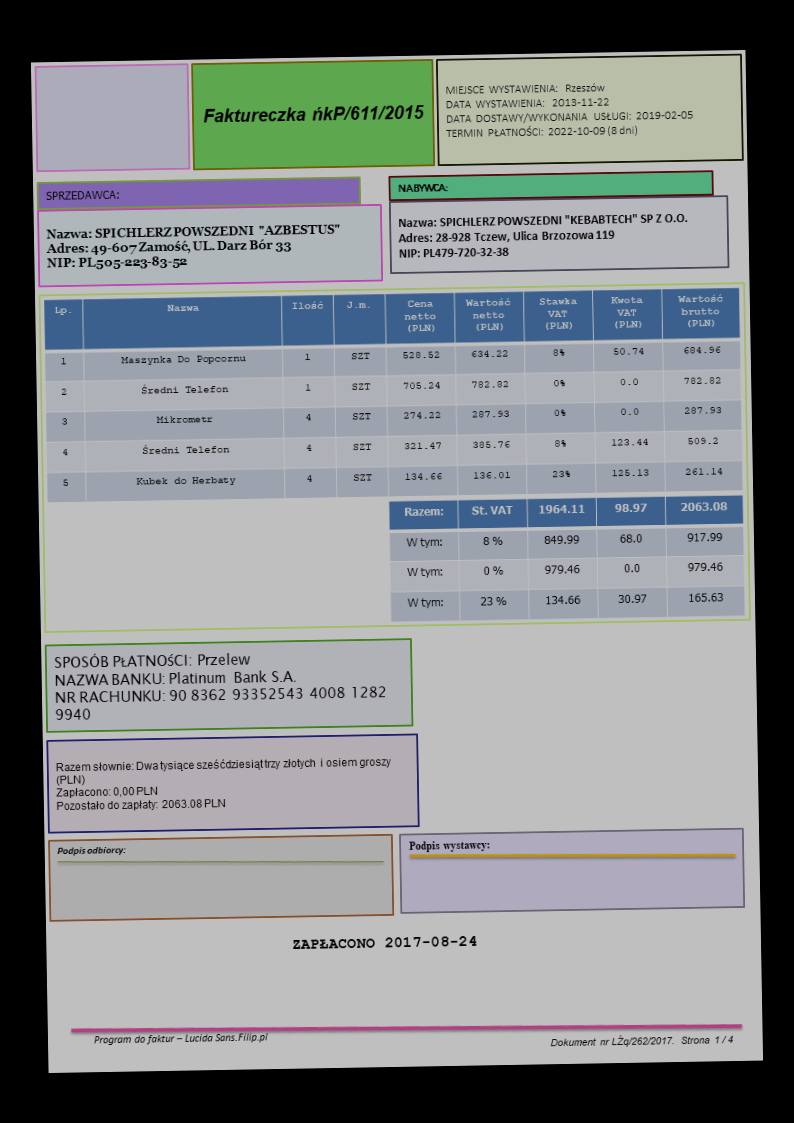Table: (41, 285, 745, 505), (385, 492, 748, 623)
TextBox: (50, 644, 393, 726), (52, 752, 399, 815), (43, 217, 342, 276), (442, 75, 700, 143), (394, 207, 694, 265), (200, 98, 427, 130), (545, 1029, 739, 1054), (289, 931, 480, 954), (88, 1027, 272, 1050), (404, 834, 493, 859), (40, 183, 121, 205), (50, 839, 127, 862), (394, 178, 450, 197)
